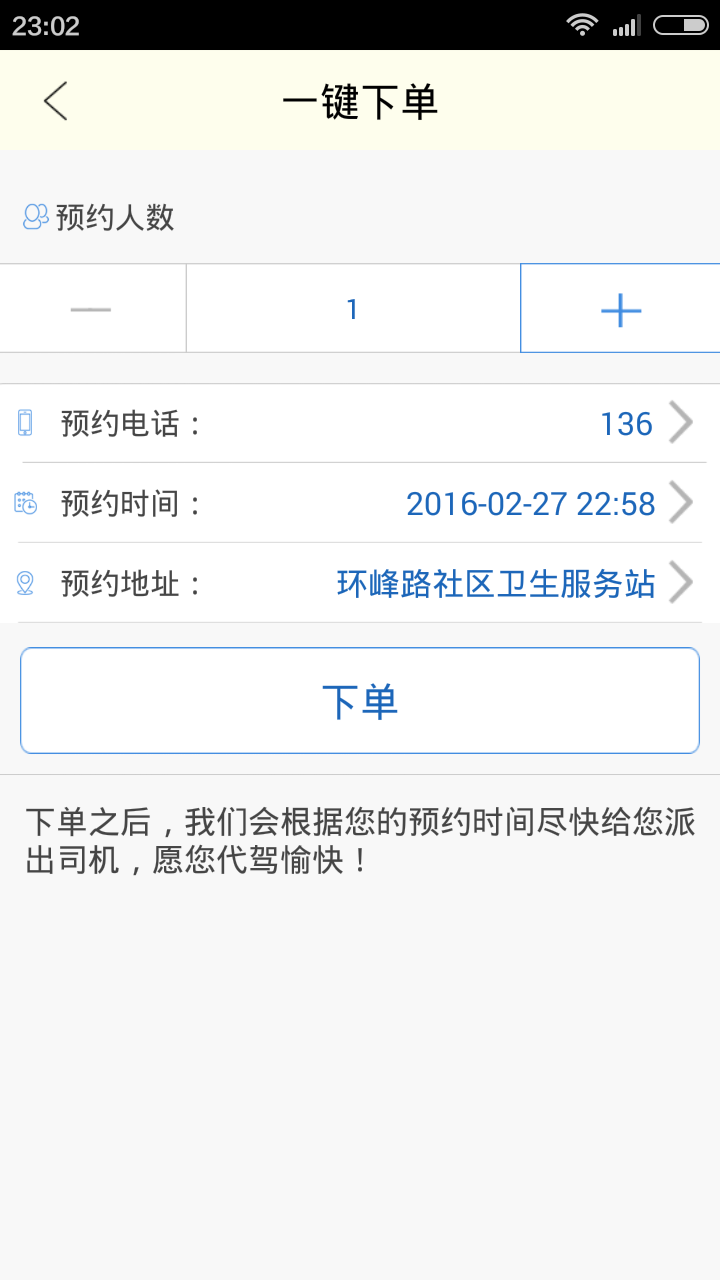button: (10, 641, 712, 760)
imgbutton: (590, 283, 654, 342), (664, 398, 697, 454)
imgview: (32, 73, 89, 127)
textview: (1, 379, 720, 629), (21, 791, 720, 888)
